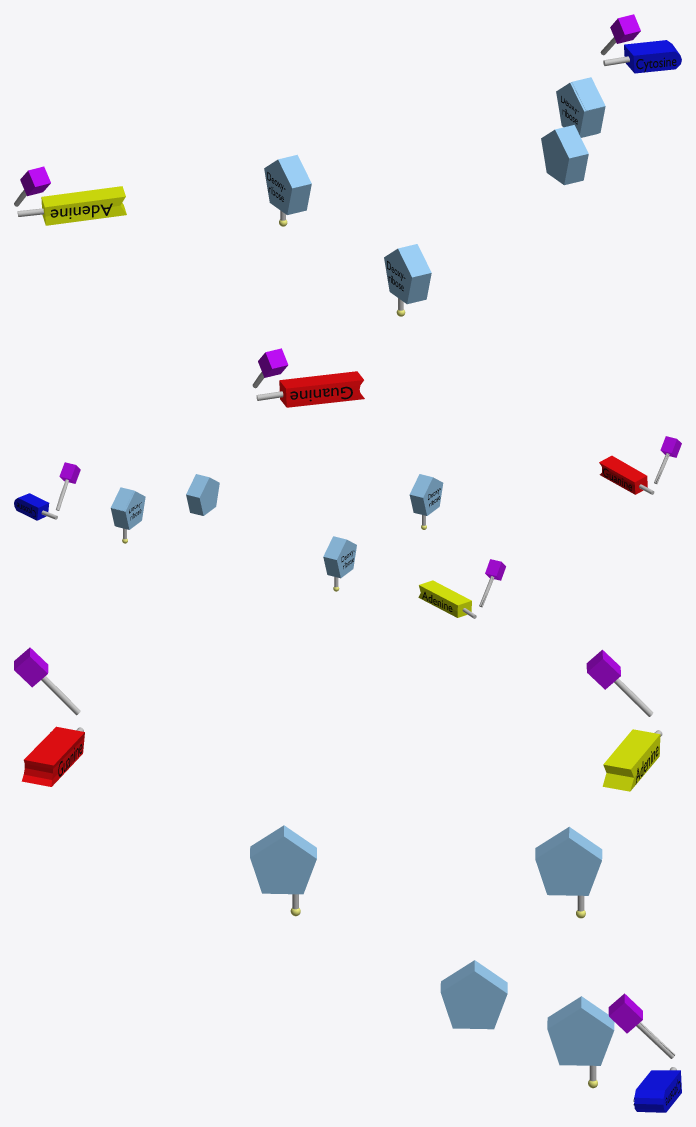
File: adenine.glb
The picture shows the model from 3 angles, top to bottom: view 1: azimuth 30°, elevation 25°; view 2: azimuth 150°, elevation 25°; view 3: azimuth 270°, elevation 25°; orthographic projection. The views are drawn at different scales.
Visible parts, largest first — view 1: Deoxyribose.006 (×4), Connector_Ribose_Base.001, Connector_Ribose_Base.002, Connector_Ribose_Base.004, Deoxyribose.004, Phosphate.004, Phosphate.001, Phosphate.002; view 2: Deoxyribose.006 (×4), Connector_Ribose_Base.001, Connector_Ribose_Base.002, Deoxyribose.004, Connector_Ribose_Base.004, Phosphate.004, Phosphate.002, Phosphate.001; view 3: Deoxyribose.006 (×4), Connector_Ribose_Base.002, Connector_Ribose_Base.001, Connector_Ribose_Base.004, Phosphate.002, Phosphate.001, Phosphate.004.
Part boxes in pixels (<box>): Deoxyribose.006 (×4): <box>264,77,605,304</box>; Connector_Ribose_Base.001: <box>17,186,126,225</box>; Connector_Ribose_Base.002: <box>256,371,364,407</box>; Connector_Ribose_Base.004: <box>603,40,681,73</box>; Deoxyribose.004: <box>556,82,603,137</box>; Phosphate.004: <box>600,14,640,55</box>; Phosphate.001: <box>14,166,50,206</box>; Phosphate.002: <box>252,348,288,388</box>; Deoxyribose.006 (×4): <box>110,474,443,578</box>; Connector_Ribose_Base.001: <box>418,580,476,618</box>; Connector_Ribose_Base.002: <box>599,455,654,494</box>; Deoxyribose.004: <box>112,491,145,529</box>; Connector_Ribose_Base.004: <box>14,493,57,520</box>; Phosphate.004: <box>56,462,80,510</box>; Phosphate.002: <box>654,436,681,483</box>; Phosphate.001: <box>479,559,505,607</box>; Deoxyribose.006 (×4): <box>250,825,614,1065</box>; Connector_Ribose_Base.002: <box>21,726,84,786</box>; Connector_Ribose_Base.001: <box>602,729,662,791</box>; Connector_Ribose_Base.004: <box>634,1067,681,1112</box>; Phosphate.002: <box>14,647,80,715</box>; Phosphate.001: <box>586,649,653,716</box>; Phosphate.004: <box>608,993,675,1058</box>.
Size of the model in its own units: 10.43 by 1.6 by 7.59.
